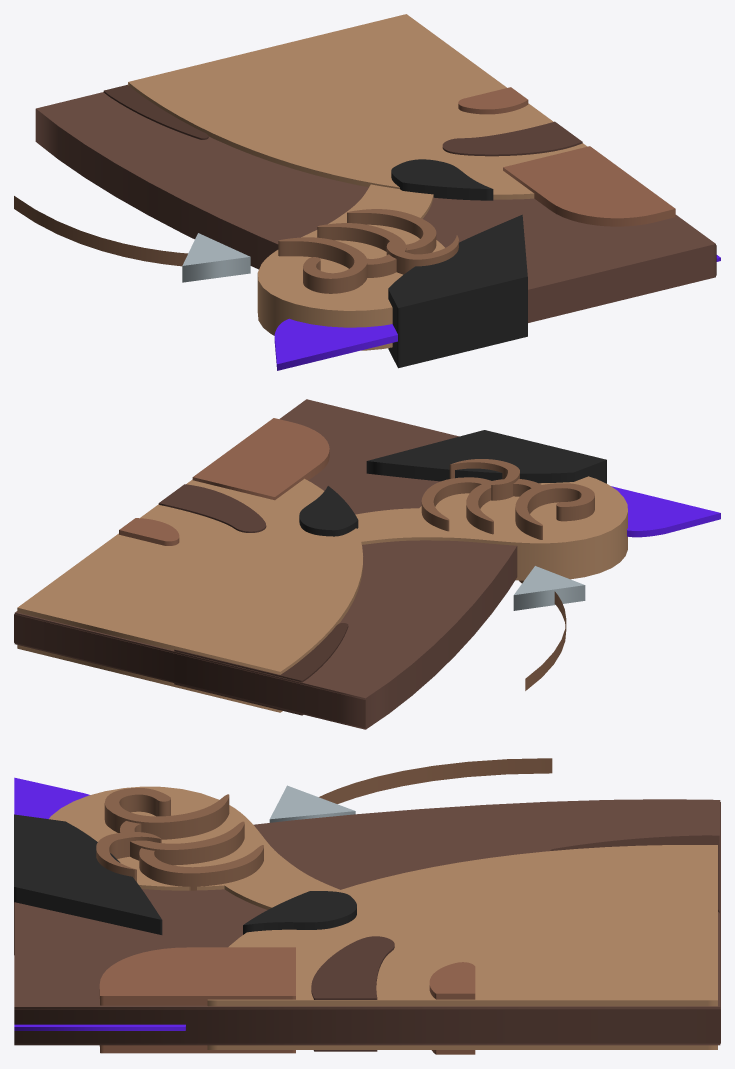
The model's file is emoji_u1f9cf_1f3fd_200d_2640.glb.
3 views of the same model, one above another, from view 1: azimuth 30°, elevation 25°; view 2: azimuth 150°, elevation 25°; view 3: azimuth 270°, elevation 25° (orthographic). The views are drawn at different scales.
Visible parts, largest first — view 1: emoji_u1f9cf_1f3fd_200d_2640; view 2: emoji_u1f9cf_1f3fd_200d_2640; view 3: emoji_u1f9cf_1f3fd_200d_2640.
Boxes of the visible parts, x1,y1,x2,y2 form: emoji_u1f9cf_1f3fd_200d_2640: (14, 14, 720, 370); emoji_u1f9cf_1f3fd_200d_2640: (14, 399, 720, 729); emoji_u1f9cf_1f3fd_200d_2640: (14, 758, 720, 1054).
Size of the model in its own units: 0.0296 by 0.0044 by 0.0336.
